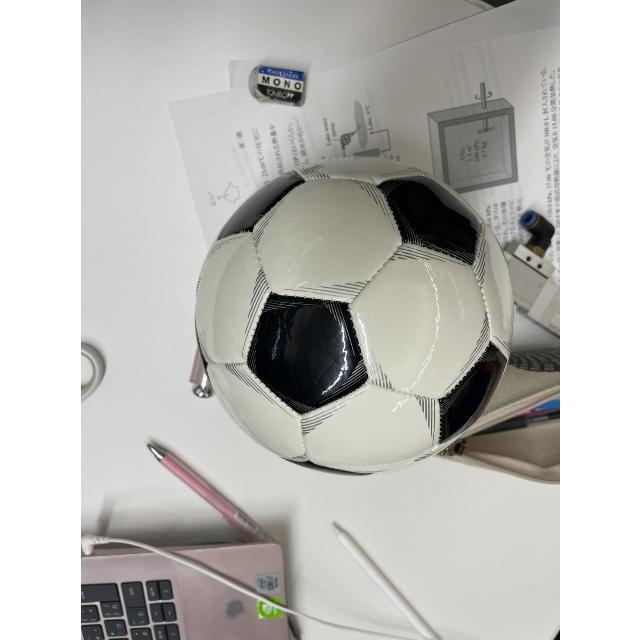ball: (194, 156, 510, 474)
